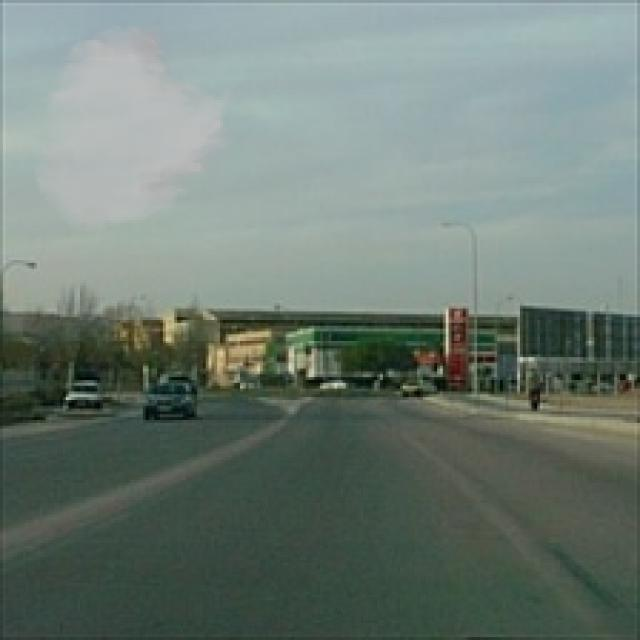smoke: (32, 23, 237, 234)
